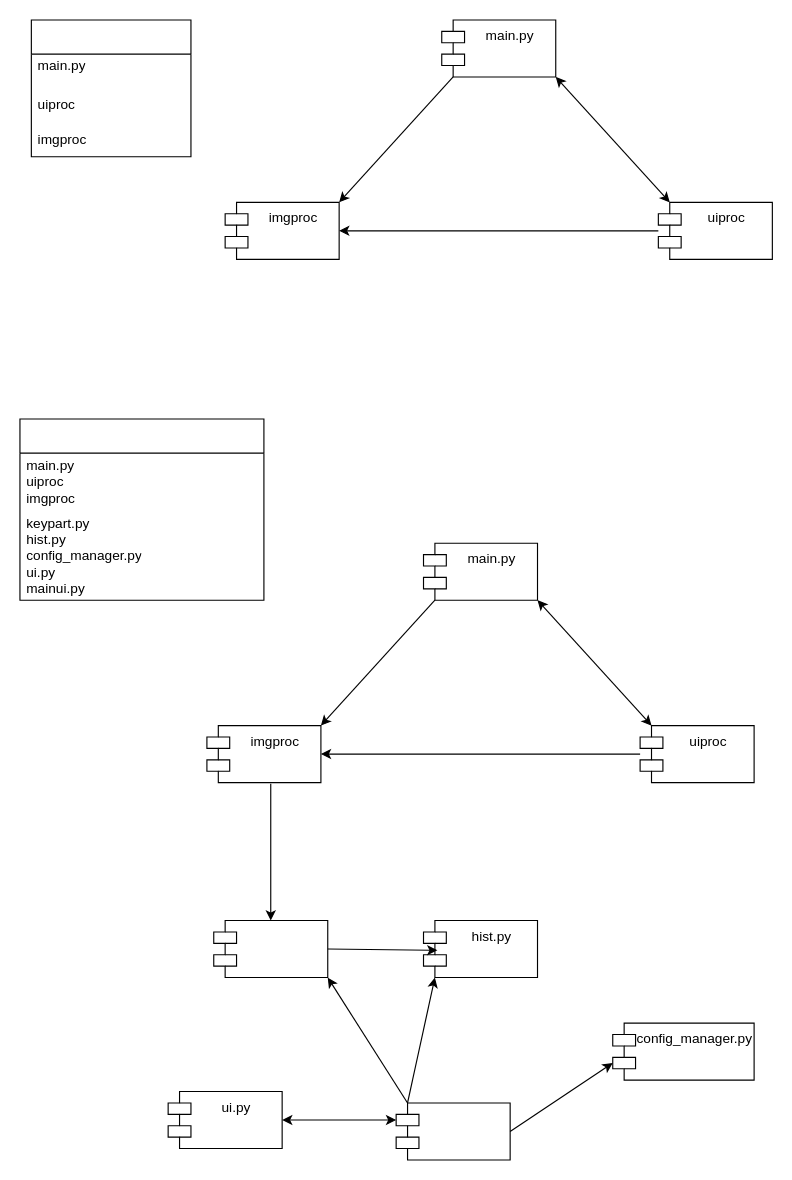
This 792x1180 diagram has some shape labels left out. The box of each missing label's shape, as (x1, y1, x2, y2) in pixels:
keypart.py: (213, 919, 328, 978)
mainui.py: (395, 1102, 510, 1160)
Диаграмма компонентов №1: (30, 19, 191, 157)
диаграмма компонентов №2(расширенная): (19, 418, 264, 600)
